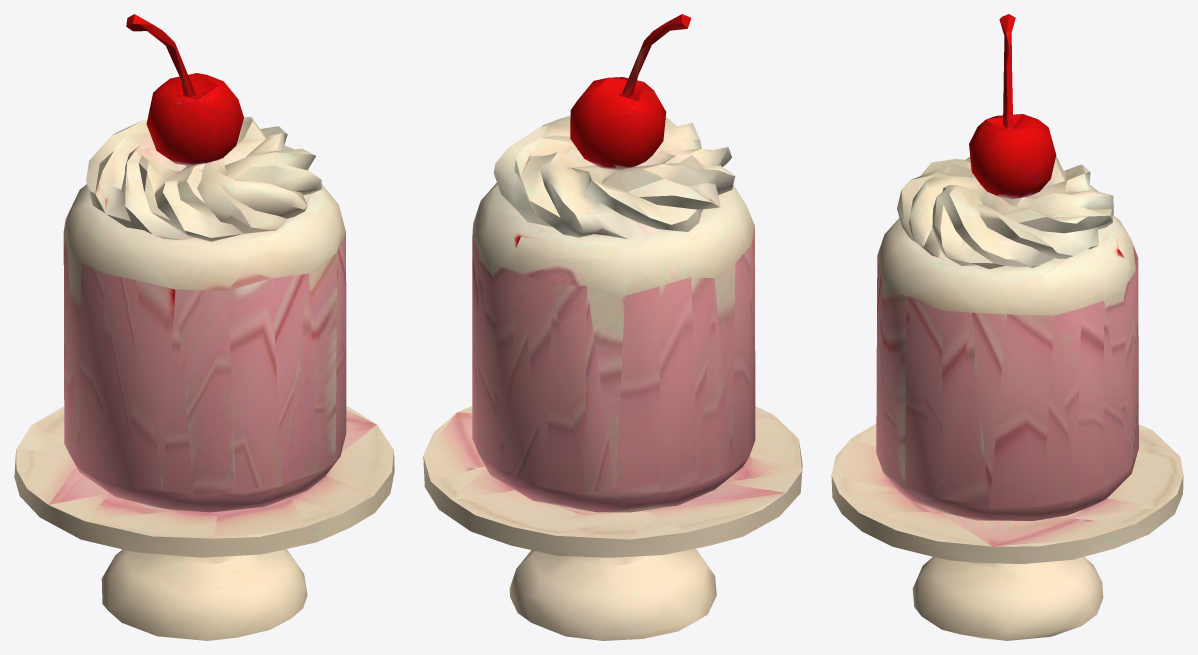
File: cakestand.glb
The picture shows the model from 3 angles, left to right: view 1: azimuth 30°, elevation 25°; view 2: azimuth 150°, elevation 25°; view 3: azimuth 270°, elevation 25°; orthographic projection. The views are drawn at different scales.
Parts seen in each view (by area): view 1: Mesh_0; view 2: Mesh_0; view 3: Mesh_0.
Part boxes in pixels (x1=…): Mesh_0: x1=14, y1=14, x2=394, y2=640; Mesh_0: x1=423, y1=14, x2=802, y2=640; Mesh_0: x1=831, y1=14, x2=1183, y2=640.
Size of the model in its own units: 25.55 by 44.6 by 25.53.
Materials: 1 (1 with a texture image).
